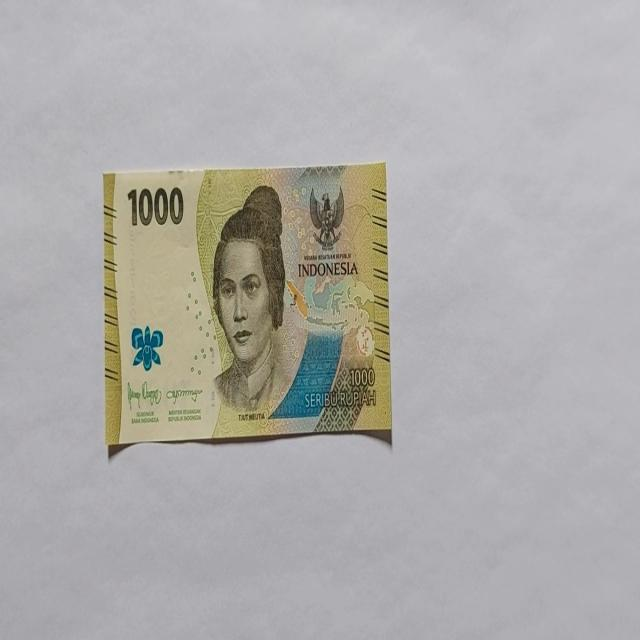seribu rupiah kertas: (102, 162, 390, 450)
